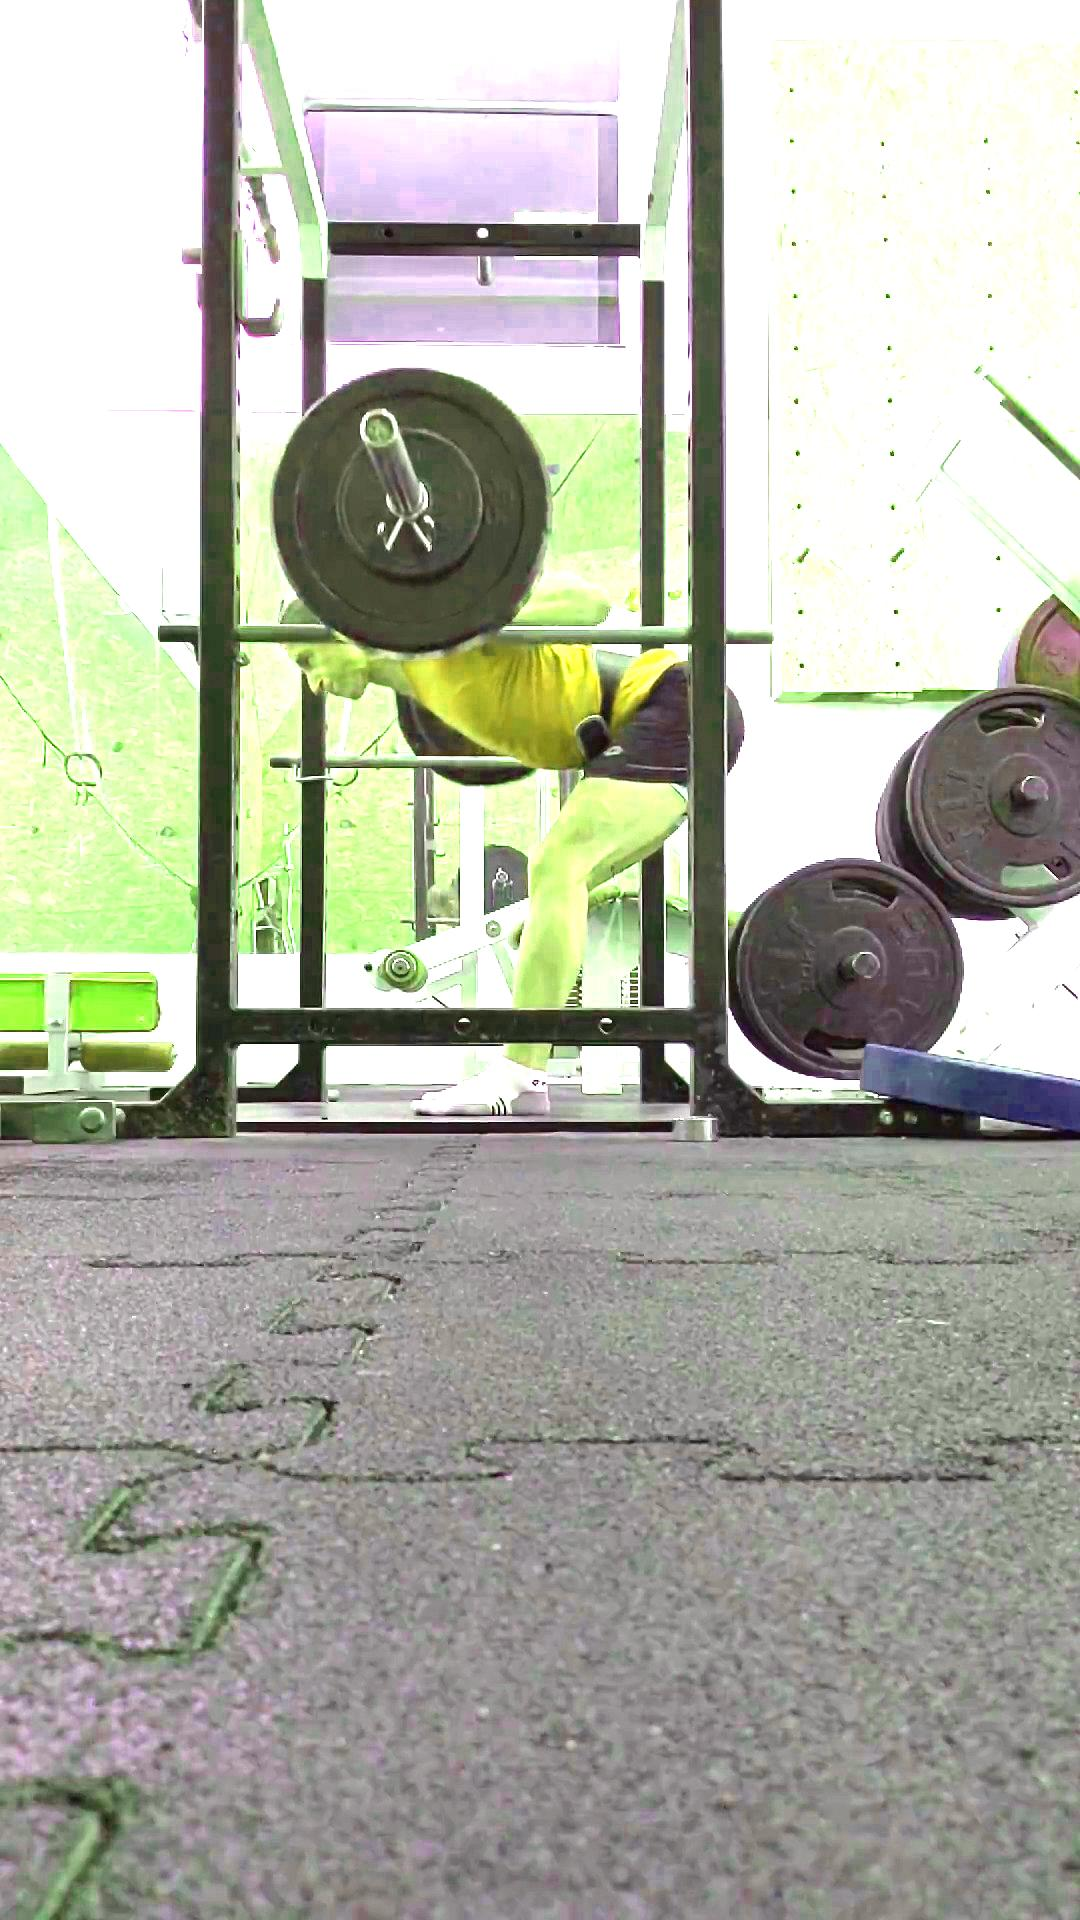barbell: (268, 363, 549, 649), (735, 858, 963, 1080), (905, 682, 1079, 907), (483, 843, 526, 914)
